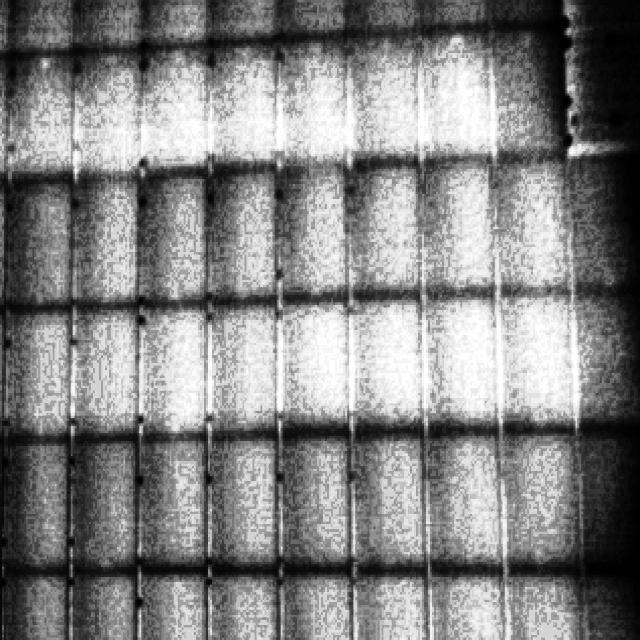Hotspots: (39, 54, 54, 73)
PV-modules: (501, 427, 587, 576), (494, 146, 574, 299), (344, 26, 426, 173), (428, 422, 514, 562), (427, 284, 510, 425), (497, 288, 578, 431), (419, 156, 500, 299), (348, 424, 428, 563), (342, 160, 424, 294), (348, 287, 426, 427), (420, 23, 494, 170), (492, 15, 564, 164), (278, 30, 350, 178), (279, 429, 356, 566), (282, 301, 358, 438), (569, 151, 640, 295), (204, 304, 278, 442), (142, 307, 215, 446), (70, 309, 144, 446), (211, 36, 282, 178), (68, 434, 142, 566), (204, 444, 278, 573), (144, 46, 217, 175), (575, 287, 640, 431), (70, 180, 143, 308), (281, 173, 355, 298), (8, 311, 76, 447), (7, 182, 78, 312), (144, 177, 216, 305), (209, 174, 283, 298), (144, 444, 215, 572), (5, 435, 74, 565), (76, 50, 146, 177), (581, 424, 640, 574), (8, 53, 79, 177), (349, 559, 432, 640), (506, 564, 592, 640), (434, 564, 515, 640), (204, 569, 281, 640), (283, 569, 359, 640), (0, 569, 73, 640), (67, 572, 141, 640), (141, 574, 214, 640), (585, 562, 640, 640), (13, 0, 80, 55), (76, 0, 149, 50), (147, 0, 216, 47), (278, 0, 352, 38), (213, 0, 281, 40), (349, 0, 424, 28), (418, 0, 492, 24), (493, 0, 561, 24), (0, 53, 12, 179), (0, 0, 16, 60), (0, 312, 4, 446), (0, 181, 2, 315)
